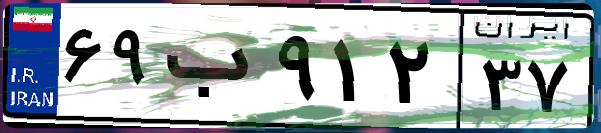1: (330, 28, 385, 110)
2: (385, 28, 445, 110)
3: (475, 38, 525, 113)
6: (57, 26, 110, 100)
7: (525, 38, 570, 115)
9: (270, 28, 330, 110), (110, 28, 158, 98)
ب: (158, 20, 270, 120)
